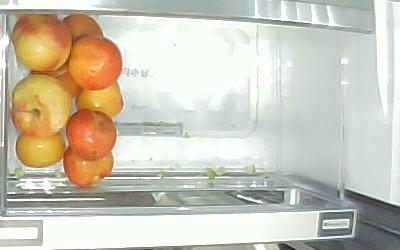prune: (12, 75, 73, 136), (12, 12, 71, 73), (69, 36, 123, 91), (66, 109, 117, 161), (64, 142, 114, 187), (30, 60, 82, 100), (77, 79, 125, 117), (15, 132, 65, 167), (62, 14, 104, 39)
